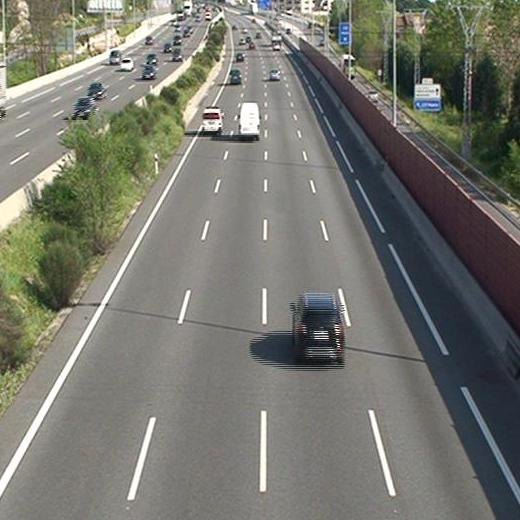car: (293, 294, 344, 358), (268, 68, 278, 79), (235, 52, 243, 61)
van: (240, 103, 259, 137), (202, 108, 222, 132), (230, 69, 240, 83)
